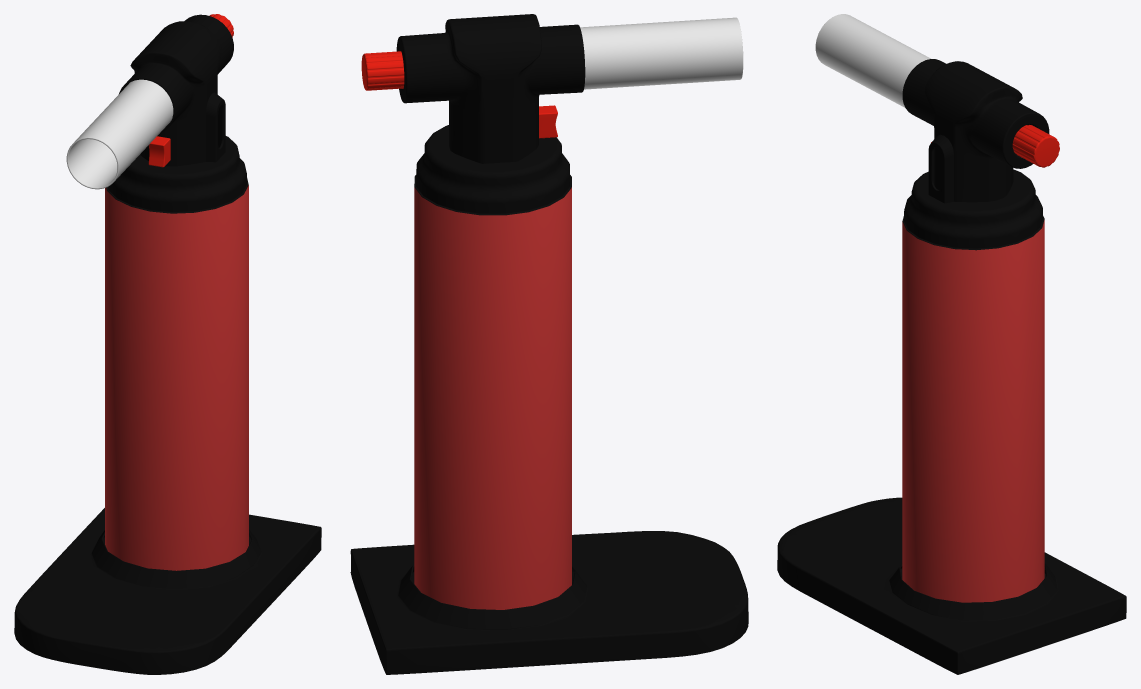
The model's file is Lighter.glb.
The picture shows the model from 3 angles, left to right: view 1: azimuth 30°, elevation 25°; view 2: azimuth 150°, elevation 25°; view 3: azimuth 270°, elevation 25°; orthographic projection. The views are drawn at different scales.
Parts seen in each view (by area): view 1: mesh-FLAME-001; view 2: mesh-FLAME-001; view 3: mesh-FLAME-001.
Boxes of the visible parts, box(x1,y1,x2,y2) form: mesh-FLAME-001: box(14, 14, 321, 674); mesh-FLAME-001: box(350, 14, 748, 674); mesh-FLAME-001: box(777, 14, 1126, 674).
Size of the model in its own units: 1.18 by 1.88 by 1.11.
